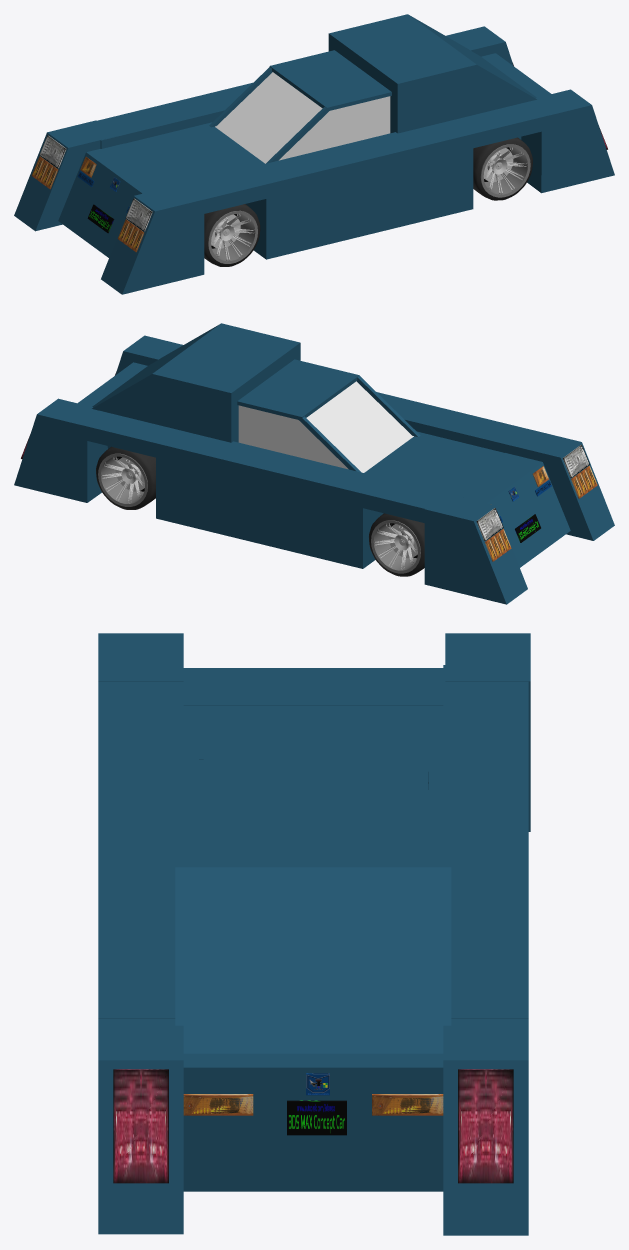
The model's file is bladelord_hypercar.FBX.
The picture shows the model from 3 angles, top to bottom: view 1: azimuth 30°, elevation 25°; view 2: azimuth 150°, elevation 25°; view 3: azimuth 270°, elevation 25°; orthographic projection. The views are drawn at different scales.
Parts seen in each view (by area): view 1: Box035, Box041, Box034, Box013, Box036, Box033, Box080, Box001, Box089, Box011, Box038, Object072 (+9 smaller); view 2: Box039, Box041, Box038, Box013, Box089, Box040, Box080, Box001, Box036, Box011, Box034, Object073 (+9 smaller); view 3: Box041, Box001, Box038, Box034, Box040, Box033, Box080, Box011, Box046, Box047, Box089, Box036 (+3 smaller).
Part boxes in pixels (x1,y1,x2,y2): Box035: (246, 145, 473, 259); Box041: (328, 14, 536, 133); Box034: (183, 101, 548, 217); Box013: (215, 72, 390, 163); Box036: (101, 184, 204, 294); Box033: (521, 89, 614, 193); Box080: (58, 143, 179, 257); Box001: (125, 53, 550, 184); Box089: (14, 120, 116, 231); Box011: (269, 50, 391, 111); Box038: (97, 82, 252, 148); Object072: (480, 144, 530, 197); Box039: (156, 454, 383, 568); Box041: (92, 323, 300, 442); Box038: (79, 410, 462, 522); Box013: (238, 381, 413, 472); Box089: (424, 493, 527, 604); Box040: (14, 398, 107, 502); Box080: (449, 453, 570, 567); Box001: (78, 362, 503, 513); Box036: (511, 430, 614, 540); Box011: (237, 359, 359, 420); Box034: (377, 392, 532, 453); Object073: (371, 520, 420, 573); Box041: (175, 790, 451, 1053); Box001: (183, 705, 443, 1191); Box038: (443, 665, 528, 1018); Box034: (98, 681, 183, 1018); Box040: (443, 1018, 528, 1235); Box033: (98, 1018, 183, 1234); Box080: (183, 668, 443, 705); Box011: (199, 751, 428, 789); Box046: (458, 1069, 513, 1183); Box047: (113, 1069, 168, 1183); Box089: (445, 633, 530, 831); Box036: (98, 633, 183, 681).
Size of the model in its own units: 10385 by 2562 by 3946.
